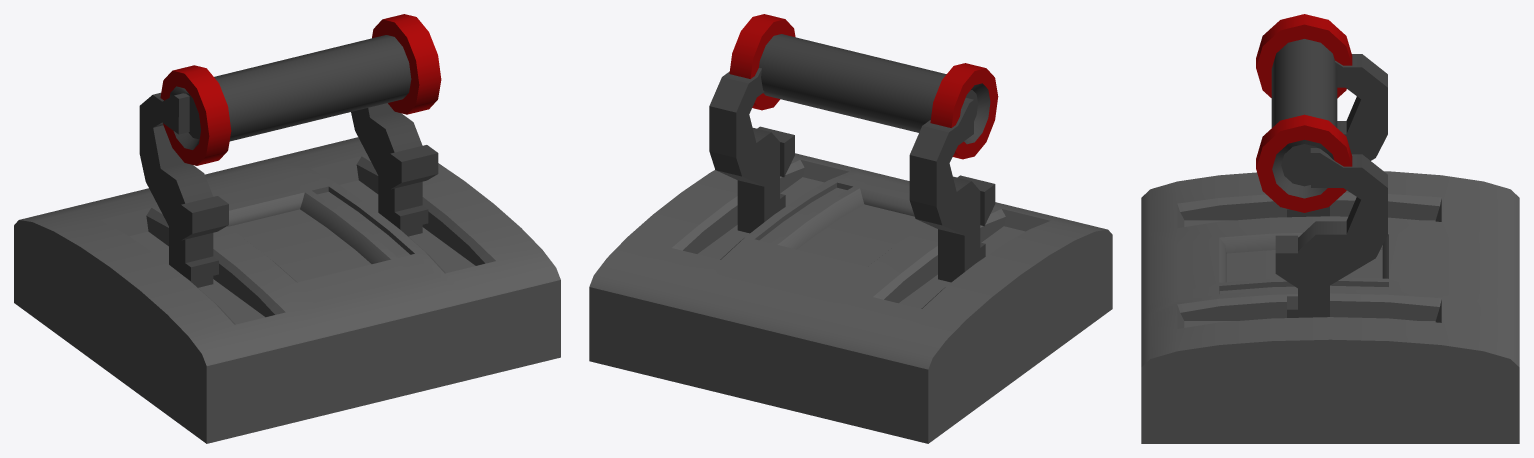
The model's file is Throttle.fbx.
The picture shows the model from 3 angles, left to right: view 1: azimuth 30°, elevation 25°; view 2: azimuth 150°, elevation 25°; view 3: azimuth 270°, elevation 25°; orthographic projection. The views are drawn at different scales.
Parts seen in each view (by area): view 1: Throttle_Base_2, Throttle_Handle_2; view 2: Throttle_Base_2, Throttle_Handle_2; view 3: Throttle_Base_2, Throttle_Handle_2.
Part boxes in pixels (left/top/right/bottom): Throttle_Base_2: left=14, top=137, right=560, bottom=443; Throttle_Handle_2: left=139, top=14, right=441, bottom=287; Throttle_Base_2: left=589, top=153, right=1112, bottom=443; Throttle_Handle_2: left=709, top=14, right=998, bottom=282; Throttle_Base_2: left=1141, top=171, right=1519, bottom=443; Throttle_Handle_2: left=1256, top=14, right=1387, bottom=317.
Bounding box in the file's own units: 0.1814 × 0.1709 × 0.1442.
